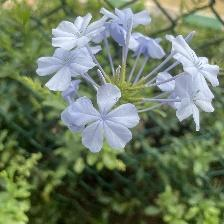chitrak: (63, 76, 139, 154), (171, 35, 223, 96), (37, 46, 103, 89), (54, 13, 109, 49)
